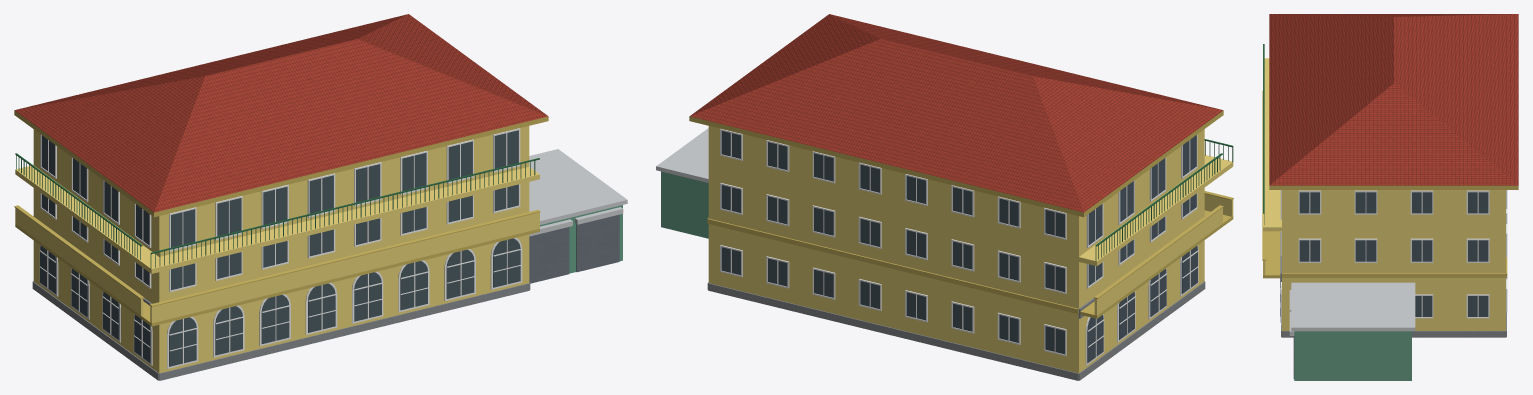
The model's file is CANTEEN.glb.
The picture shows the model from 3 angles, left to right: view 1: azimuth 30°, elevation 25°; view 2: azimuth 150°, elevation 25°; view 3: azimuth 270°, elevation 25°; orthographic projection. The views are drawn at different scales.
Visible parts, largest first — view 1: CANTEEN; view 2: CANTEEN; view 3: CANTEEN.
Part boxes in pixels (left/top/right/bottom): CANTEEN: left=14, top=14, right=627, bottom=380; CANTEEN: left=656, top=14, right=1233, bottom=380; CANTEEN: left=1262, top=14, right=1518, bottom=380.
Bounding box in the file's own units: 32.35 × 14.55 × 16.35.
11 materials, 4 textured.
